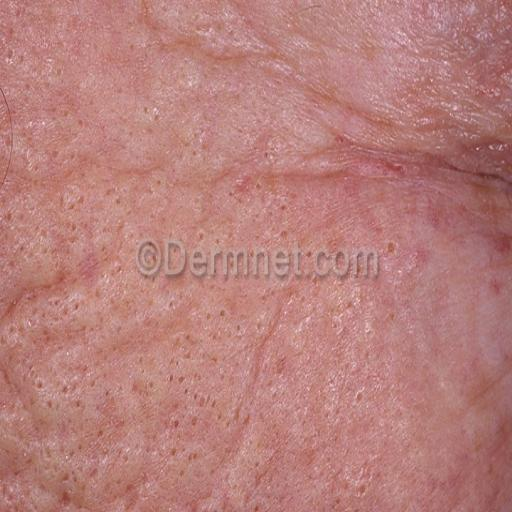Skin_Lesion: (158, 360, 240, 446), (6, 206, 68, 279), (95, 228, 141, 320), (192, 295, 261, 353), (37, 352, 92, 416), (4, 290, 86, 326), (50, 455, 101, 512), (359, 142, 409, 185), (0, 464, 45, 510), (257, 183, 290, 245), (20, 125, 62, 171), (329, 284, 363, 340), (221, 464, 267, 494), (316, 462, 343, 512), (128, 364, 157, 410), (251, 407, 279, 452), (378, 228, 402, 268), (347, 470, 376, 502), (128, 38, 154, 69), (189, 190, 213, 223), (158, 460, 187, 487), (142, 98, 162, 137), (230, 172, 252, 207), (72, 198, 91, 238), (190, 17, 219, 41), (119, 476, 138, 512), (490, 228, 512, 258), (194, 124, 208, 163), (102, 191, 128, 211), (151, 161, 168, 191), (258, 130, 272, 166), (6, 40, 24, 68), (97, 416, 112, 446), (164, 294, 179, 322), (275, 352, 287, 384), (288, 286, 304, 310), (116, 412, 133, 434), (194, 230, 210, 253), (294, 400, 307, 428), (490, 276, 504, 299), (51, 61, 66, 82), (278, 486, 290, 512), (354, 383, 366, 408), (150, 210, 166, 228), (322, 408, 334, 430), (106, 344, 118, 362), (24, 366, 33, 388), (414, 240, 426, 256), (7, 354, 14, 368)
